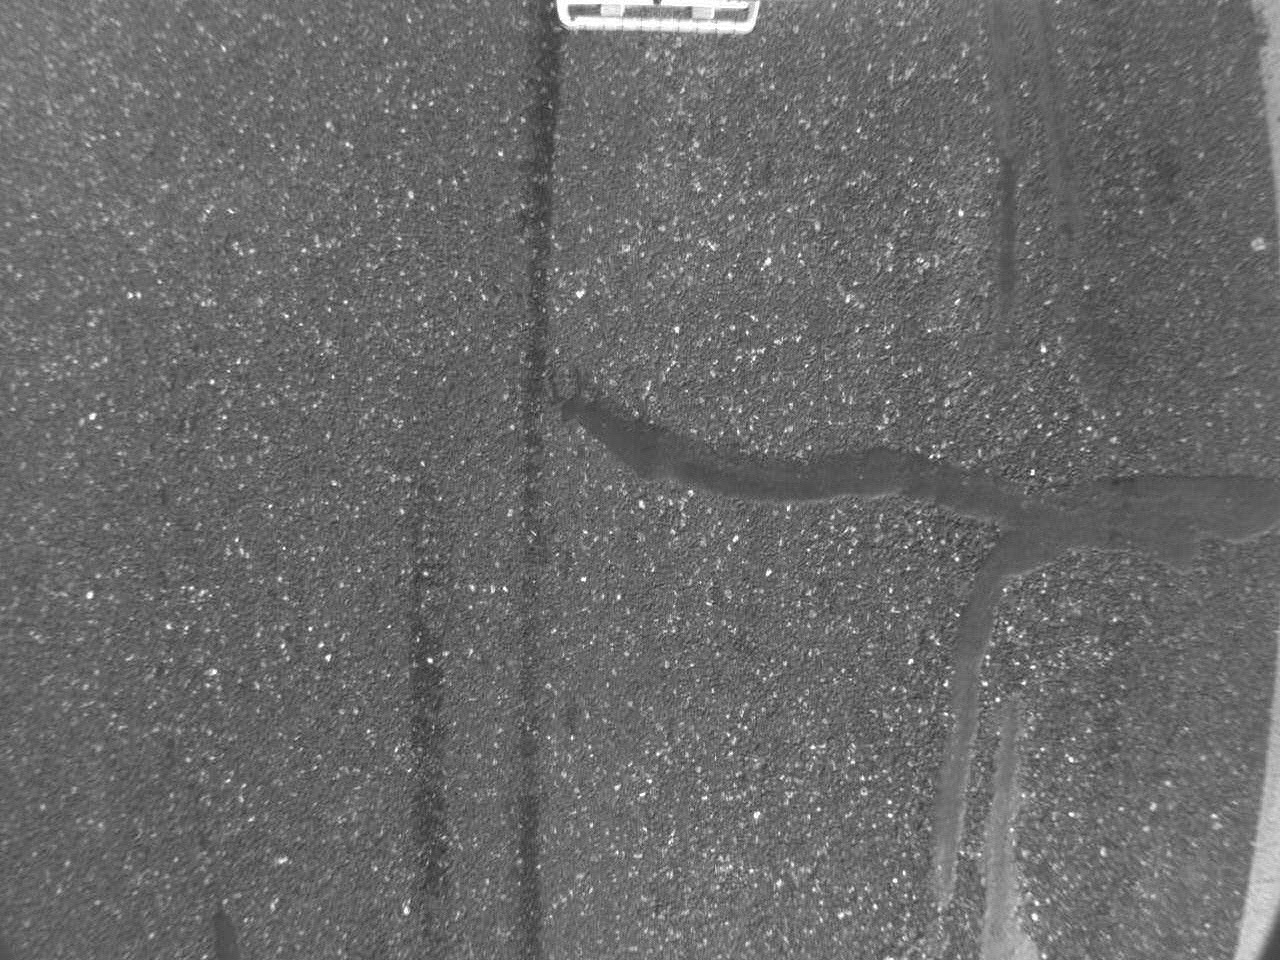sealed: (557, 390, 1277, 956)
